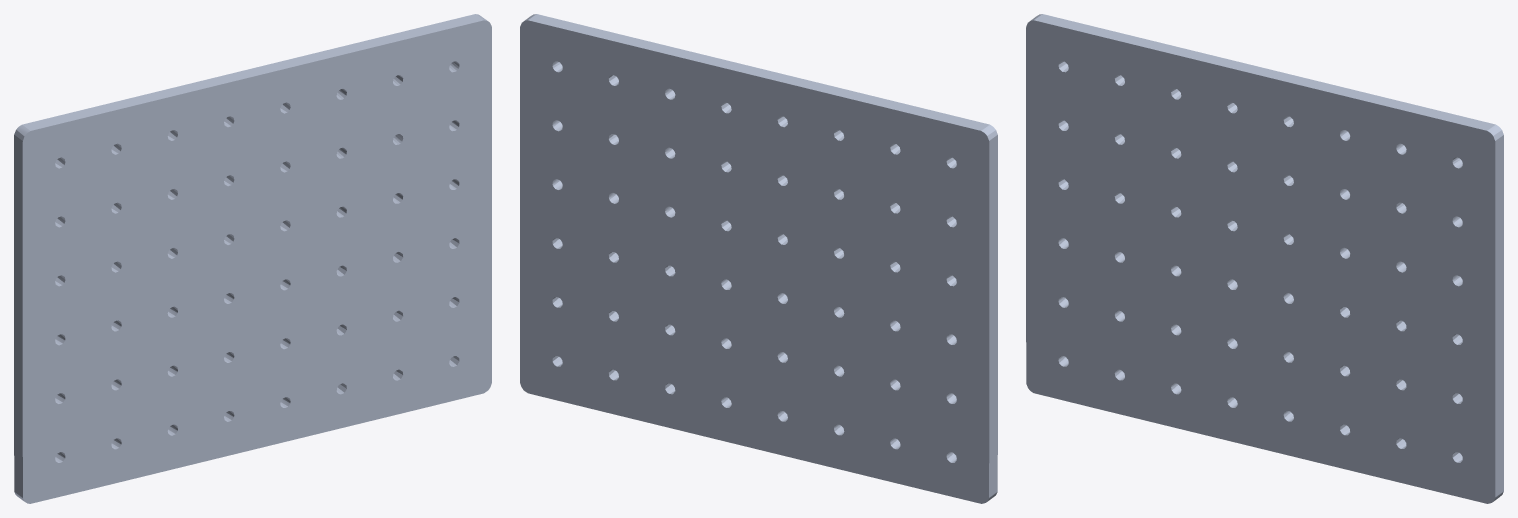
Rendered from body_link0_04.obj.
3 renders of one model, left to right at view 1: azimuth 30°, elevation 25°; view 2: azimuth 150°, elevation 25°; view 3: azimuth 330°, elevation 25°, orthographic.
Visible parts, largest first — view 1: body_link0_04; view 2: body_link0_04; view 3: body_link0_04.
Part boxes in pixels (box(x1,y1,x2,y2)): body_link0_04: box(14, 14, 491, 503); body_link0_04: box(520, 14, 997, 503); body_link0_04: box(1026, 14, 1503, 503).
Size of the model in its own units: 0.25 by 0.19 by 0.008.
